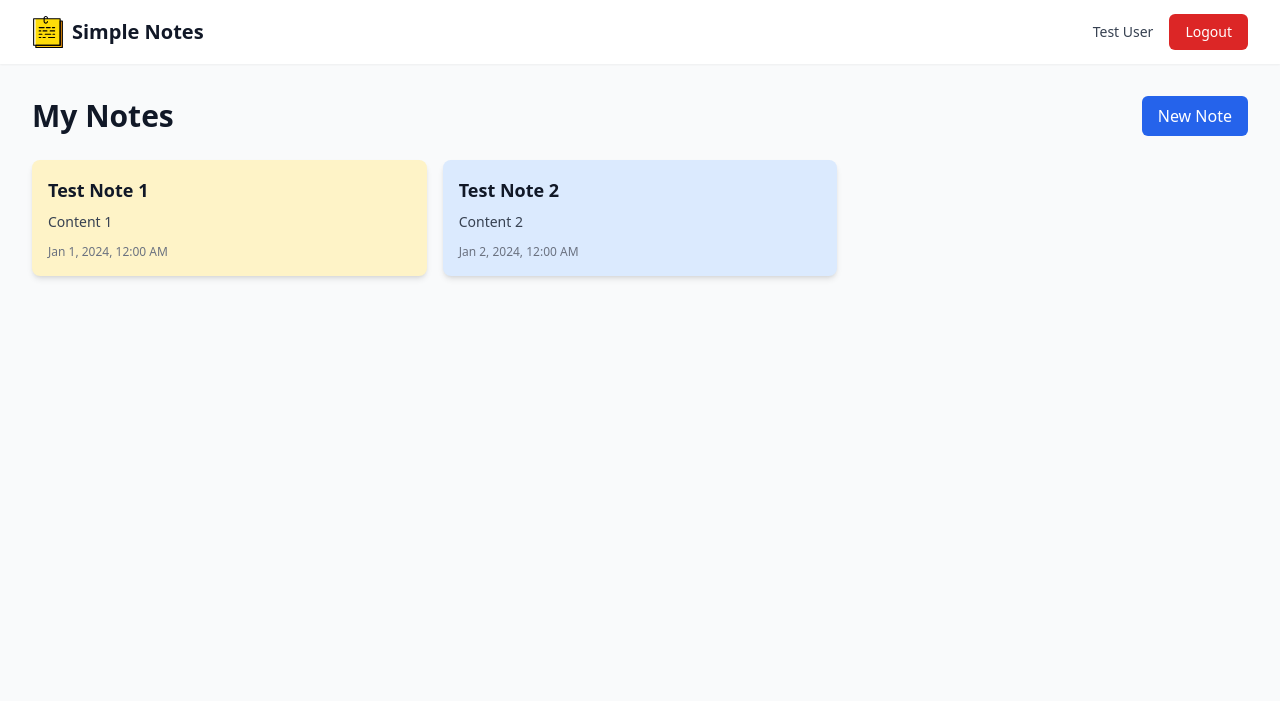
Test: NotesPage › should hide NoteForm when cancel is clicked
Click the button "New Note" at (1195, 116), box left=1142, top=96, right=1248, bottom=136
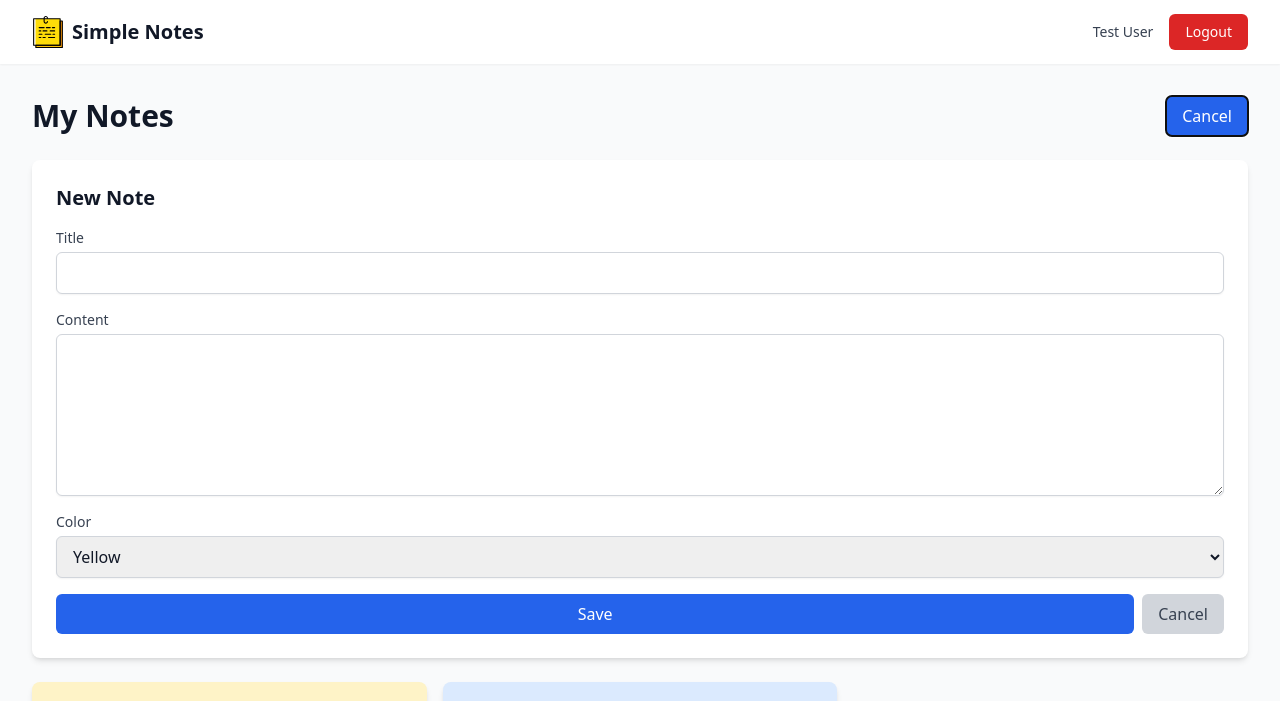
// There are two cancel buttons - one in header and one in form. Get the form one.
Click the 2nd button "Cancel" at (1183, 614), box left=1142, top=594, right=1224, bottom=634
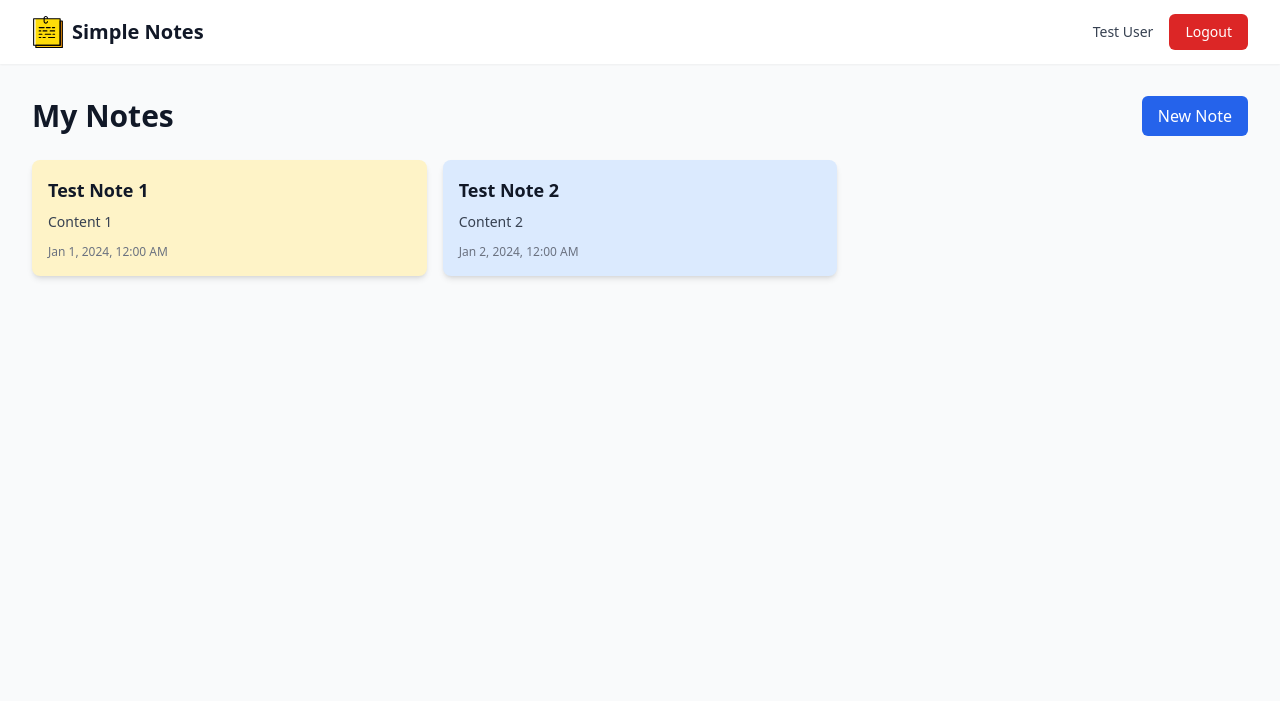
Expected: the label labelled "Title" is gone
